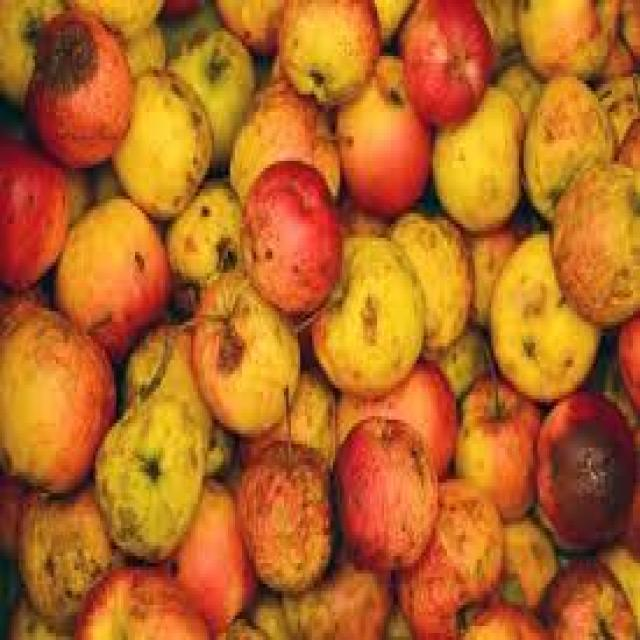biodegradable: (0, 0, 638, 637), (0, 286, 116, 496), (484, 224, 603, 399), (237, 381, 333, 595), (188, 262, 298, 434), (307, 227, 421, 392), (91, 392, 202, 556), (53, 193, 170, 347), (121, 318, 235, 476), (21, 3, 135, 161), (393, 472, 498, 637), (331, 357, 456, 486), (331, 416, 435, 570), (533, 392, 633, 549), (547, 157, 638, 329), (333, 49, 428, 213), (151, 476, 256, 623), (107, 63, 210, 210), (226, 74, 337, 207), (12, 476, 112, 619), (428, 80, 526, 224), (517, 70, 614, 206), (165, 24, 256, 168), (384, 207, 470, 354), (454, 364, 538, 514), (398, 0, 493, 119), (72, 560, 212, 637), (280, 539, 387, 637), (274, 0, 377, 101), (0, 133, 63, 287), (440, 203, 521, 318), (533, 553, 638, 637), (245, 364, 338, 458), (163, 175, 237, 287), (512, 0, 619, 77), (538, 553, 631, 637), (0, 0, 60, 101), (461, 220, 517, 322), (496, 507, 554, 602), (589, 532, 638, 637), (461, 588, 549, 637), (426, 318, 486, 388), (596, 66, 638, 161), (209, 0, 283, 52), (58, 0, 165, 35), (5, 584, 75, 637), (610, 423, 638, 549), (114, 17, 165, 84), (607, 308, 638, 409), (475, 0, 519, 66), (494, 49, 543, 108), (333, 189, 393, 234), (0, 462, 28, 556), (584, 39, 635, 81), (370, 0, 417, 42), (614, 112, 638, 185), (63, 161, 91, 220), (216, 609, 270, 637), (616, 0, 637, 59), (155, 0, 202, 17)
